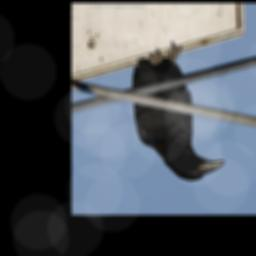Crow: (130, 42, 226, 182)
